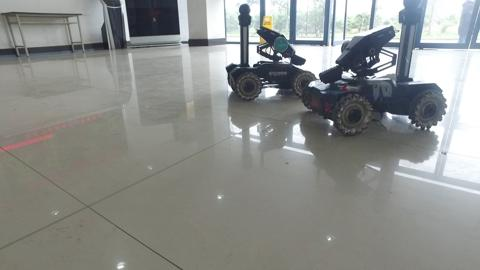chariot: (292, 1, 447, 138), (217, 5, 318, 103)
